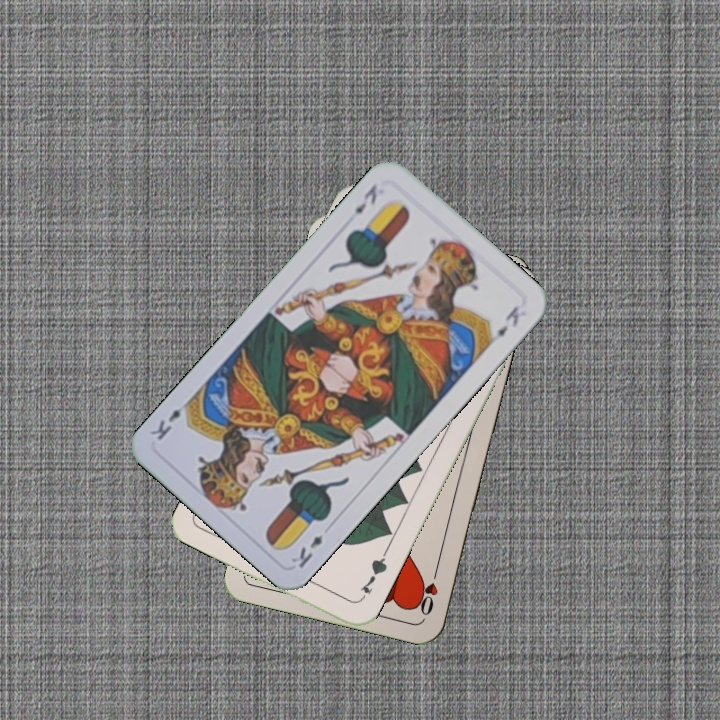EK: (287, 530, 326, 571), (350, 180, 380, 217)
G7: (355, 549, 390, 604)
HO: (416, 561, 442, 619)
